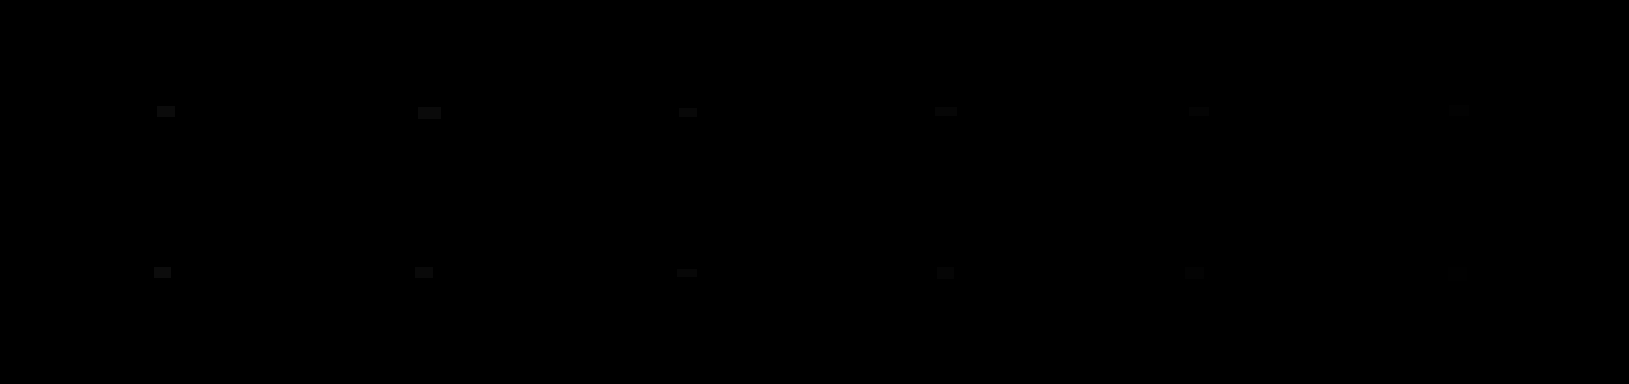light: (418, 107, 440, 119), (1448, 267, 1467, 281), (1185, 267, 1204, 279), (1449, 105, 1469, 116), (415, 267, 433, 278), (937, 267, 954, 279), (935, 107, 957, 116), (157, 106, 175, 117), (154, 267, 171, 278), (1189, 107, 1209, 116), (679, 108, 697, 117), (677, 269, 697, 277)
